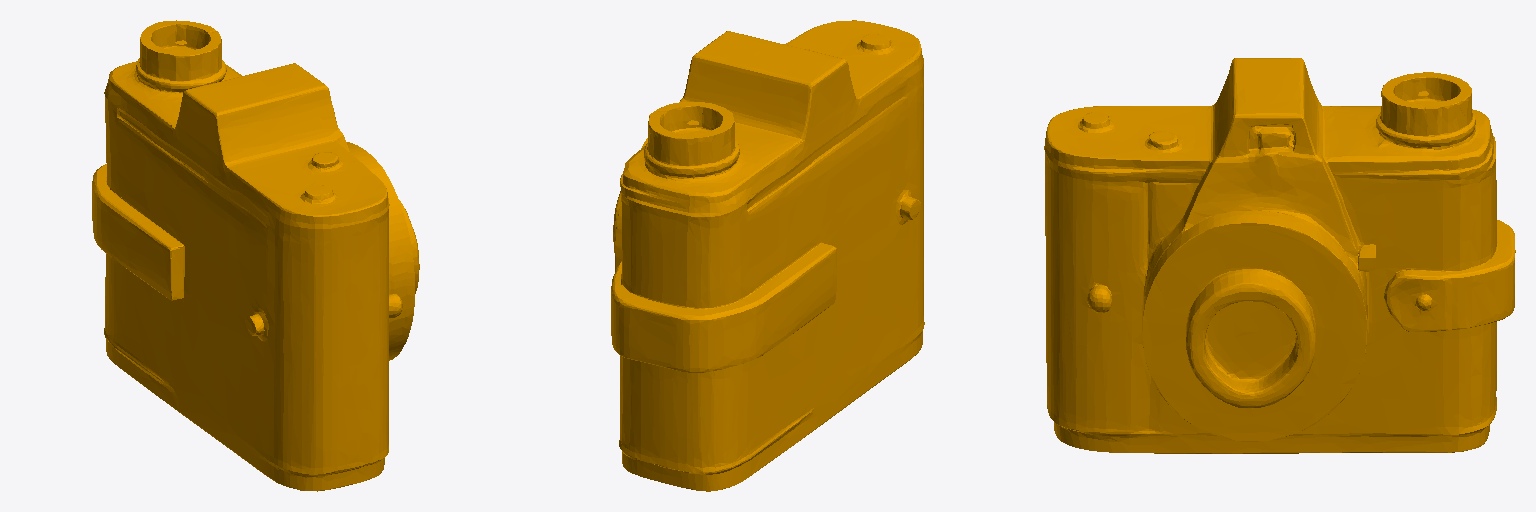
URDF robot description (sample):
<?xml version="1.0" ?>
<robot name="sample">
   <link name="sample">
      <visual>
         <origin xyz="0 0 0" rpy="1.5708 0.0 0.0"/>
         <geometry>
            <mesh filename="mesh/sample.obj" scale="1.0 1.0 1.0"/>
         </geometry>
      </visual>
      <collision>
         <origin xyz="0 0 0" rpy="1.5708 0.0 0.0"/>
         <geometry>
            <mesh filename="mesh/sample_collision.obj" scale="1.0 1.0 1.0"/>
         </geometry>
         <gazebo>
            <mu1>0.70</mu1>
            <mu2>0.55</mu2>
         </gazebo>
      </collision>
      <inertial>
         <mass value="1.0000"/>
         <origin xyz="0 0 0"/>
         <inertia ixx="1.0" ixy="0.0" ixz="0.0" iyy="1.0" iyz="0.0" izz="1.0"/>
      </inertial>
      <extra_info>
         <scale>0.167928</scale>
         <version>v0.1.7</version>
         <category>camera</category>
         <description>vintage-style black camera with silver lens and leather grip</description>
         <min_height>0.12</min_height>
         <max_height>0.15</max_height>
         <real_height>0.135</real_height>
         <min_mass>0.8</min_mass>
         <max_mass>1.2</max_mass>
         <color>black</color>
         <rgba>[0.1, 0.1, 0.1, 1.0]</rgba>
         <generate_time>20260610163244</generate_time>
         <gs_model>mesh/sample_gs.ply</gs_model>
      </extra_info>
   </link>
   <custom_data>
      <quality>
         <MeshGeoChecker>YES</MeshGeoChecker>
         <ImageSegChecker>NO, object is not fully extracted, edges are jagged and incomplete, especially on the right side.</ImageSegChecker>
         <ImageAestheticChecker>4.585506558418274</ImageAestheticChecker>
         <overall>NO</overall>
      </quality>
   </custom_data>
</robot>

--- Render facts (derived) ---
3 views of the same robot in one strip: view 1: azimuth 30°, elevation 25°; view 2: azimuth 150°, elevation 25°; view 3: azimuth 270°, elevation 25° (orthographic).
Robot: sample — 1 links, 0 joints (none); root link sample; default pose: every joint at zero.
Visible links, largest first — view 1: sample; view 2: sample; view 3: sample.
Link boxes in pixels (x1,y1,x2,y2): sample: (92,20,419,491); sample: (611,20,924,491); sample: (1044,58,1515,453).
Size in the robot's own frame: 0.0886 by 0.1679 by 0.135 metres.
Meshes: 1 distinct files referenced, 1 mesh visuals loaded (1 OBJ).
